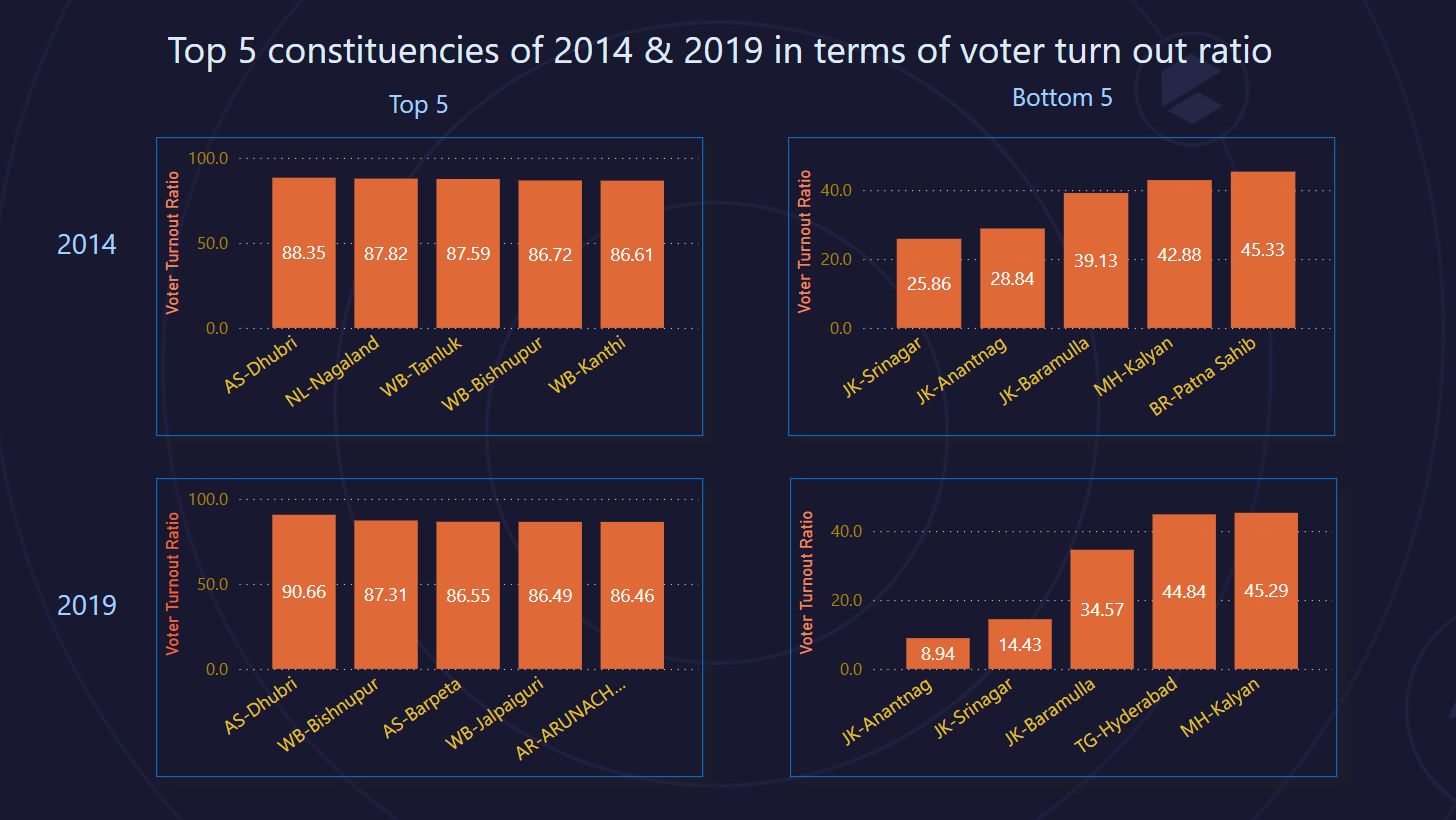

This screenshot's page, from the dashboard's own definition file:
{"tool":"powerbi","page":{"name":"1","canvas":[1280,720],"ordinal":1},"visuals":[{"type":"columnChart","fields":{"Category":["rpc_11_1.upc_name"],"Y":["Min(rpc_11_1.VTR)"]},"box":[155.9,127.2,472.4,257.7],"z":0},{"type":"textbox","box":[117.7,23.9,1086.4,55.7],"z":1000},{"type":"columnChart","fields":{"Category":["rpc_11_1_2.upc_name"],"Y":["Sum(rpc_11_1_2.VTR)"]},"box":[701.5,127.2,472.4,257.7],"z":2000},{"type":"textbox","box":[65.2,197.2,143.2,68.4],"z":3000},{"type":"textbox","box":[65.2,509,149.5,52.5],"z":4000},{"type":"textbox","box":[351.5,79.5,81.1,39.8],"z":5000},{"type":"textbox","box":[889.2,73.2,116.1,46.1],"z":6000},{"type":"columnChart","fields":{"Category":["rpc_11_1_3.upc_name"],"Y":["Sum(rpc_11_1_3.VTR)"]},"box":[155.9,421.5,472.4,257.7],"z":7000},{"type":"columnChart","fields":{"Category":["rpc_11_1_4.upc_name"],"Y":["Sum(rpc_11_1_4.VTR)"]},"box":[703.1,421.5,472.4,257.7],"z":8000}]}

Visuals, with their boxes in screenshot pixels (x1, y1, x2, y2), scaled from the page's 1280x720 canvas onto the 1456x820 screenshot:
columnChart - rpc_11_1.upc_name x Min(rpc_11_1.VTR): 177:145:715:438
textbox: 134:27:1370:91
columnChart - rpc_11_1_2.upc_name x Sum(rpc_11_1_2.VTR): 798:145:1335:438
textbox: 74:225:237:302
textbox: 74:580:244:639
textbox: 400:91:492:136
textbox: 1011:83:1144:136
columnChart - rpc_11_1_3.upc_name x Sum(rpc_11_1_3.VTR): 177:480:715:774
columnChart - rpc_11_1_4.upc_name x Sum(rpc_11_1_4.VTR): 800:480:1337:774
